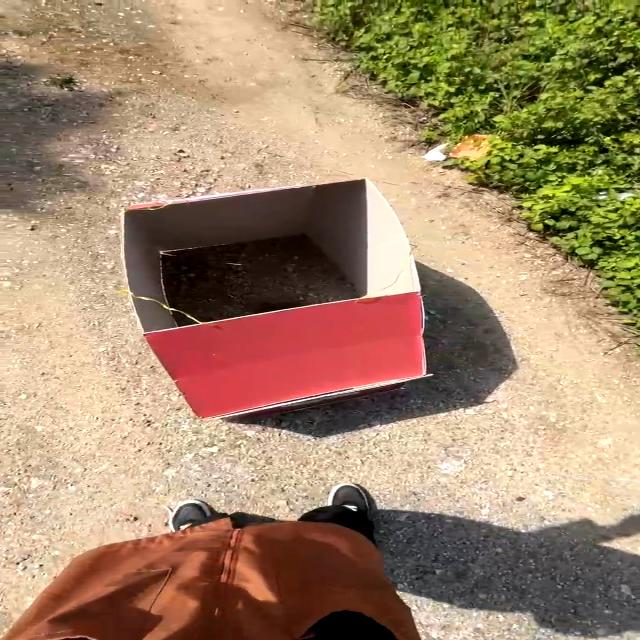red_car: (74, 150, 471, 434)
